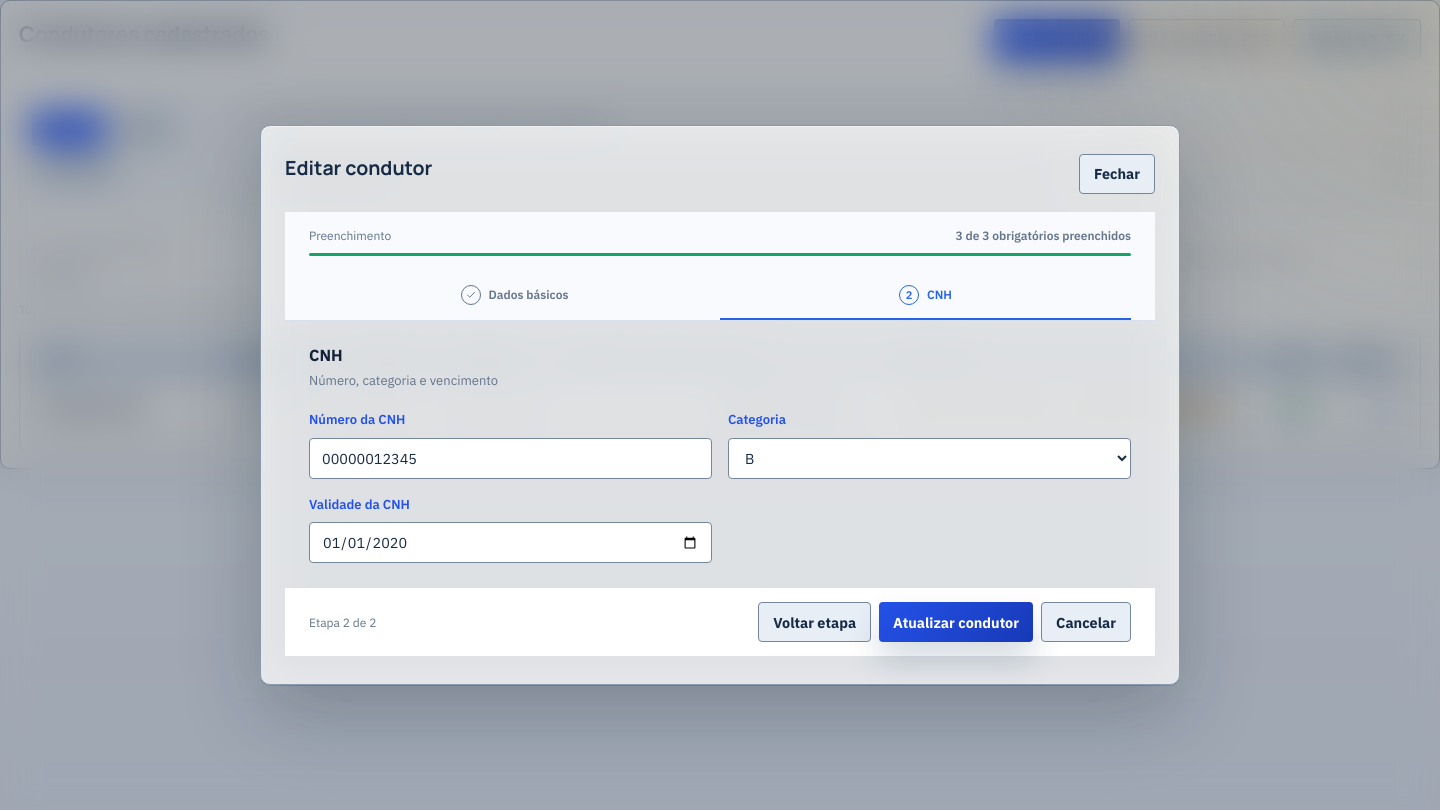
Test: abre diretamente a CNH de condutor fora da página e sem perder o número já existente
The width and height of the screenshot is (1440, 810).
Expected: the field labelled "Número da CNH" holds "00000012345", [309, 438, 712, 479]
Type "2031-01-15" into the date field labelled "Validade da CNH" at [510, 543], box [309, 522, 712, 563]
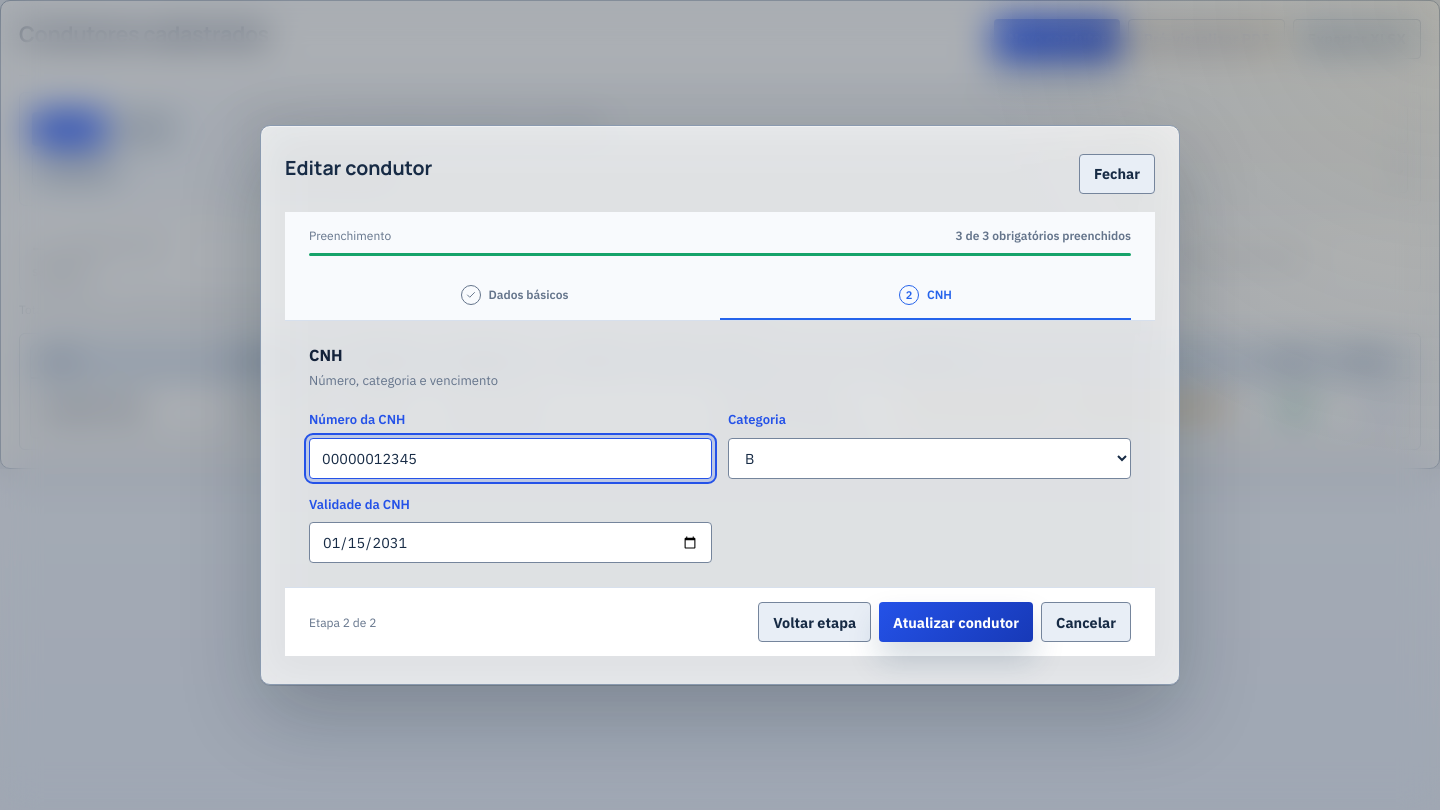
Click the button "Atualizar condutor" at [956, 622], box [879, 602, 1033, 642]
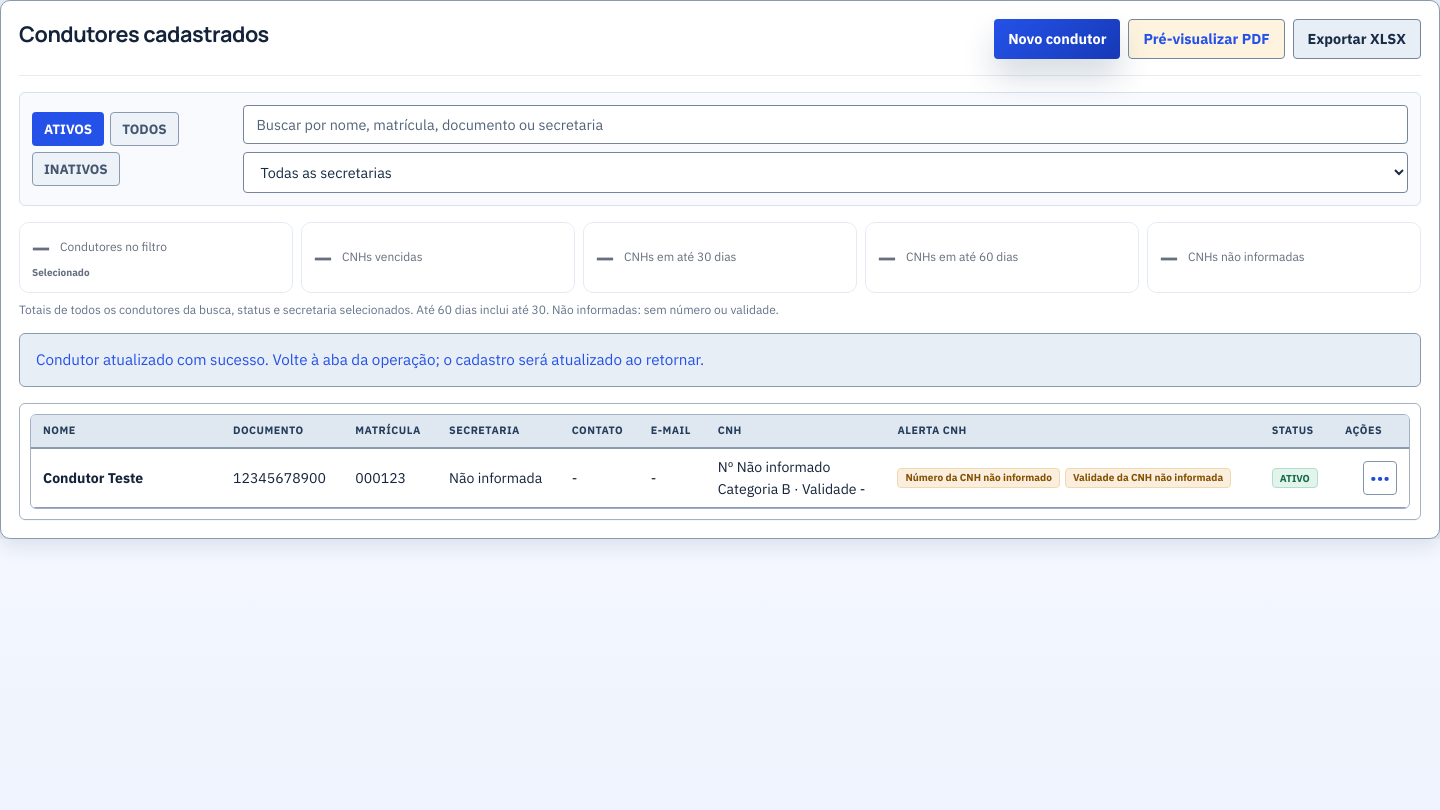
Result: the dialog is gone
Result: the text "Volte à aba da operação" is shown at [36, 349, 704, 369]
